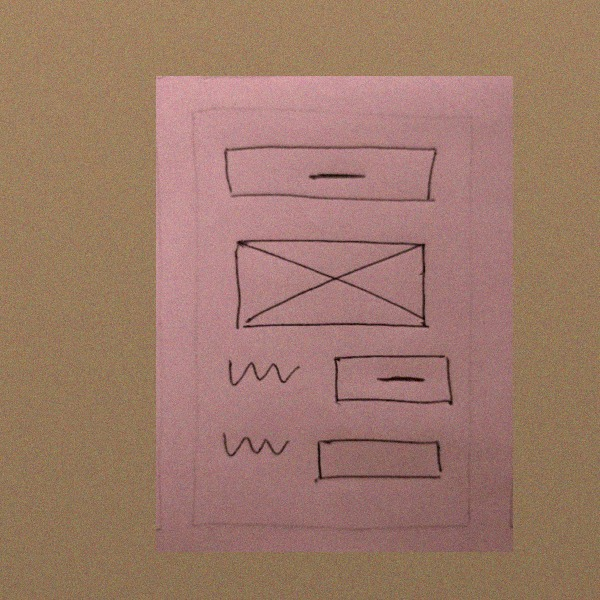button: (220, 138, 439, 209), (327, 350, 456, 408)
image: (228, 234, 433, 333)
text: (221, 352, 305, 392), (217, 429, 292, 461)
text_input: (314, 433, 446, 486)
